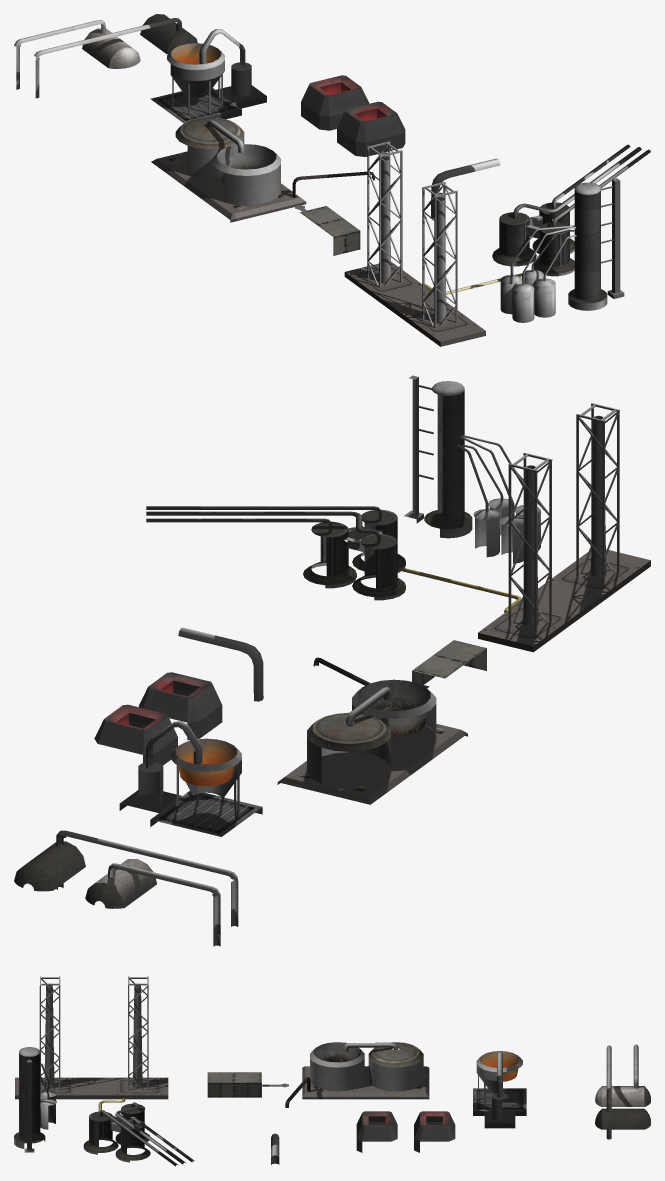
Rendered from ML2_Ground_B_objs.FBX.
3 renders of one model, top to bottom at view 1: azimuth 30°, elevation 25°; view 2: azimuth 150°, elevation 25°; view 3: azimuth 270°, elevation 25°, orthographic. The views are drawn at different scales.
Visible parts, largest first — view 1: ML2_Ground_B_objs; view 2: ML2_Ground_B_objs; view 3: ML2_Ground_B_objs.
Part boxes in pixels (box(x1,y1,x2,y2)): ML2_Ground_B_objs: box(14, 14, 650, 346); ML2_Ground_B_objs: box(14, 375, 650, 946); ML2_Ground_B_objs: box(14, 976, 650, 1166).
Bounding box in the file's own units: 32.96 × 14.84 × 65.32.
1 material, 1 textured.
